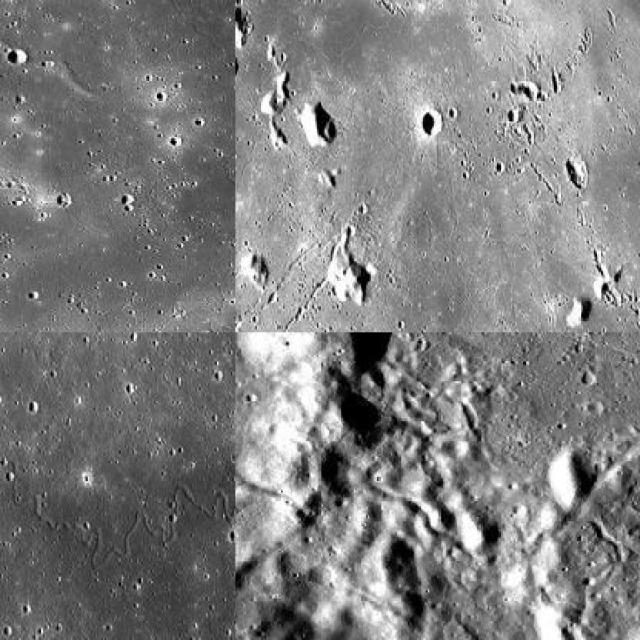rille: (236, 0, 562, 246), (0, 387, 234, 616), (101, 0, 234, 331), (362, 434, 638, 581), (236, 351, 316, 517), (557, 514, 629, 638)
